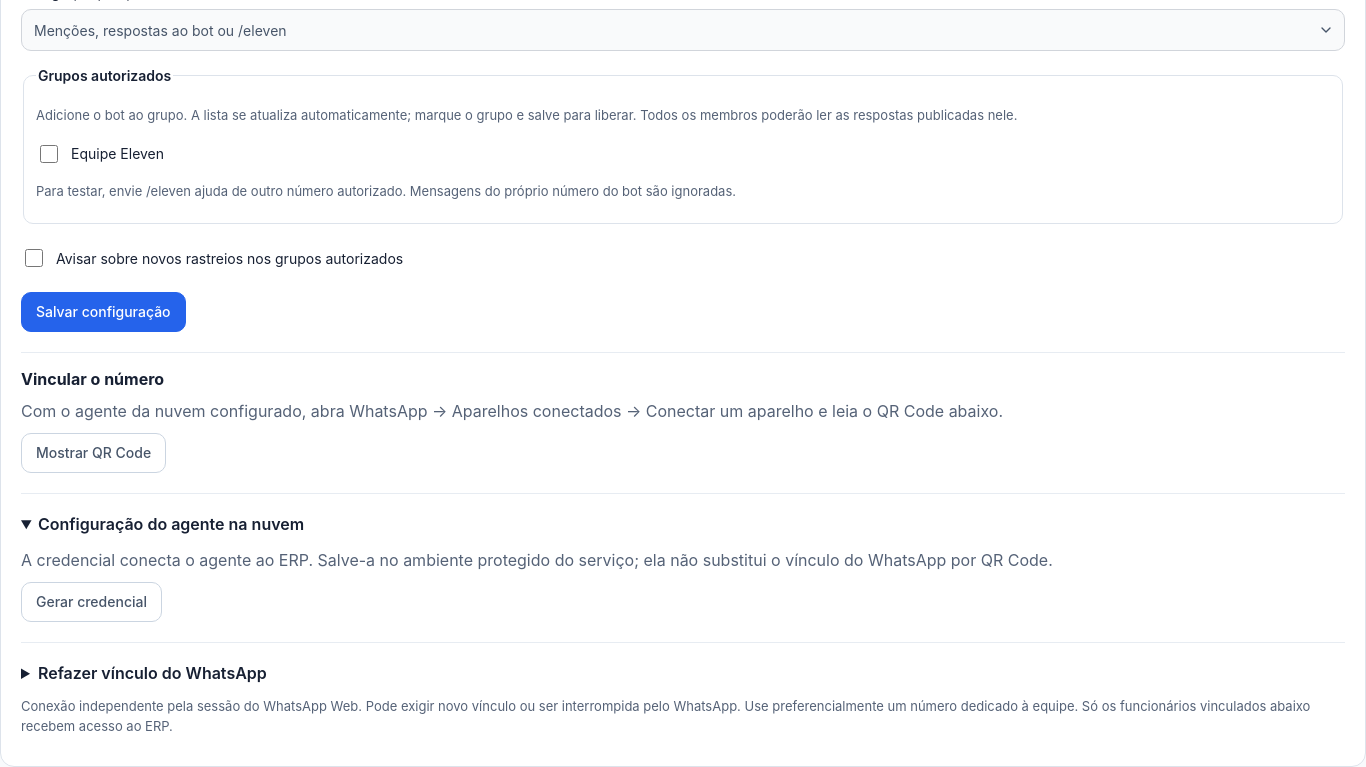
Scenario: WhatsApp team connection › cannot revert credential confirmation after a stale background response
(page scrolled)
Click the button "Gerar credencial": {"x": 92, "y": 602} [21, 582, 162, 622]
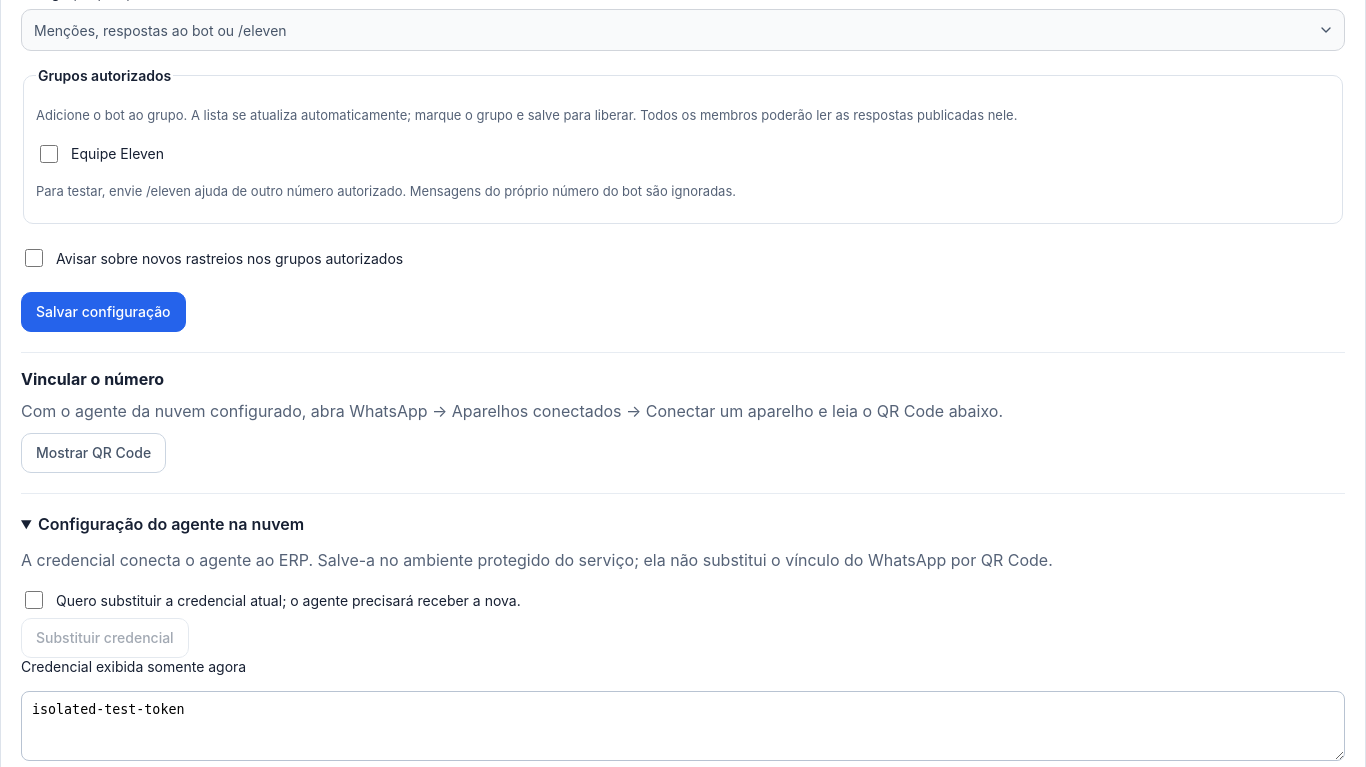
Check: the button "Substituir credencial" is disabled, box [21, 618, 189, 658]
